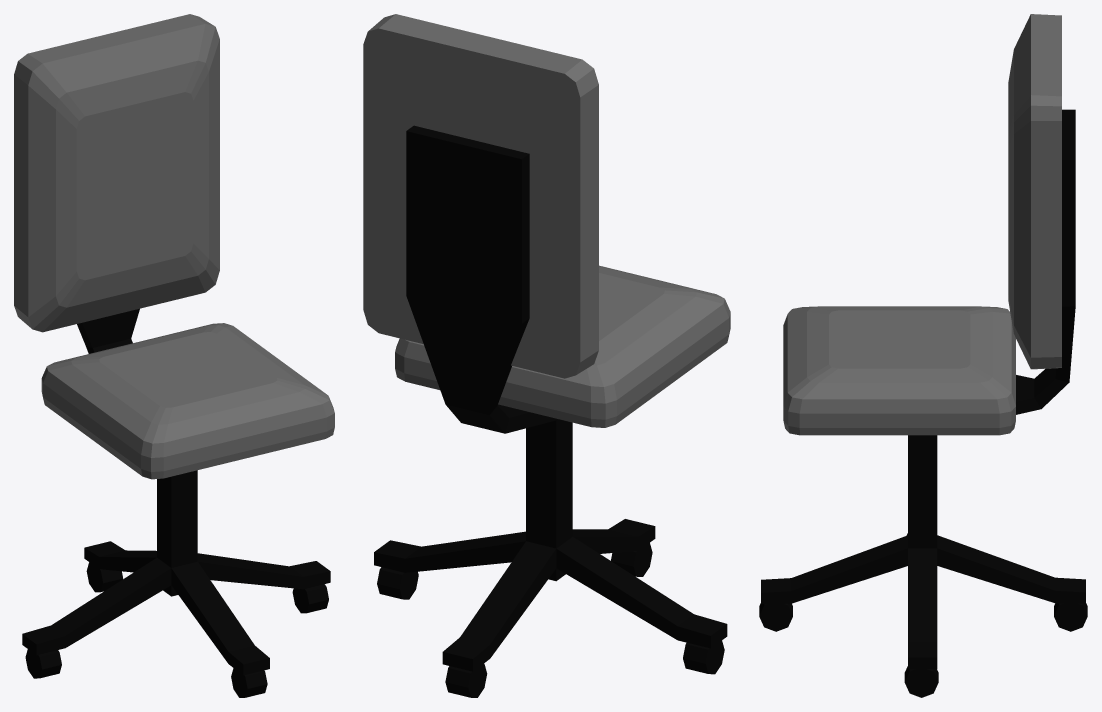
The model's file is H_Chair_Reception_2.fbx.
3 renders of one model, left to right at view 1: azimuth 30°, elevation 25°; view 2: azimuth 150°, elevation 25°; view 3: azimuth 270°, elevation 25°, orthographic. The views are drawn at different scales.
Parts seen in each view (by area): view 1: H_Chair_Reception_2; view 2: H_Chair_Reception_2; view 3: H_Chair_Reception_2.
Boxes of the visible parts, <box> form: H_Chair_Reception_2: <box>14,14,334,697</box>; H_Chair_Reception_2: <box>363,14,730,697</box>; H_Chair_Reception_2: <box>759,14,1087,697</box>.
Bounding box in the file's own units: 369 × 349 × 671.
